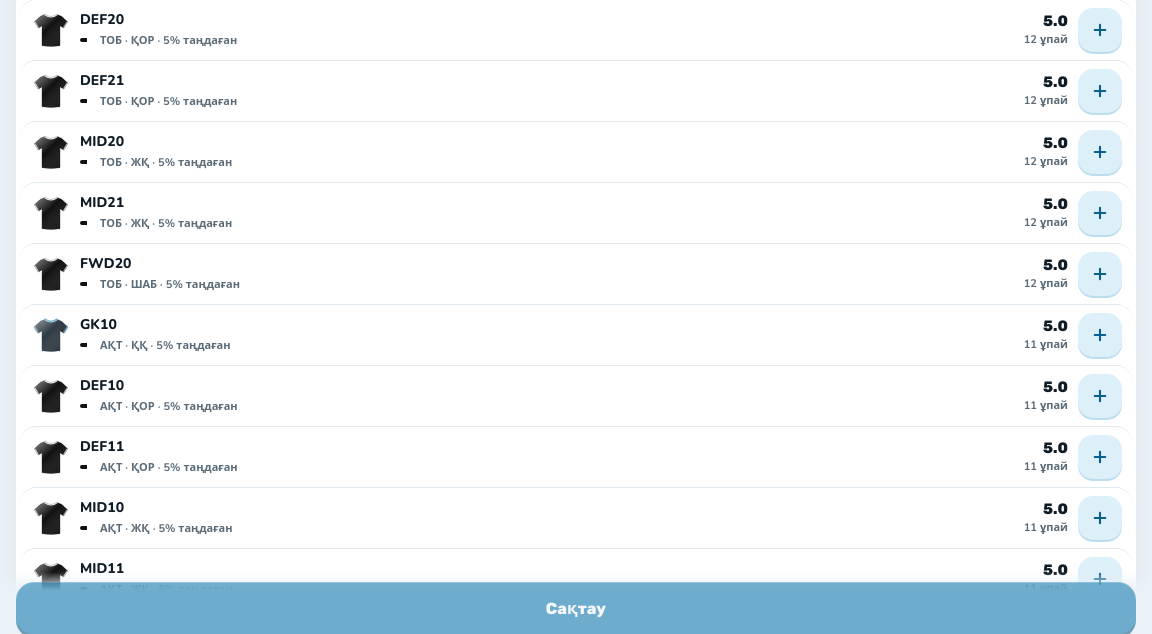
Scenario: Builder › нажатие на выбранного игрока на поле убирает его
The image size is (1152, 634).
(page scrolled)
Click the button named "Қосу: FWD20": click(1100, 274) [1078, 252, 1122, 296]
(page scrolled)
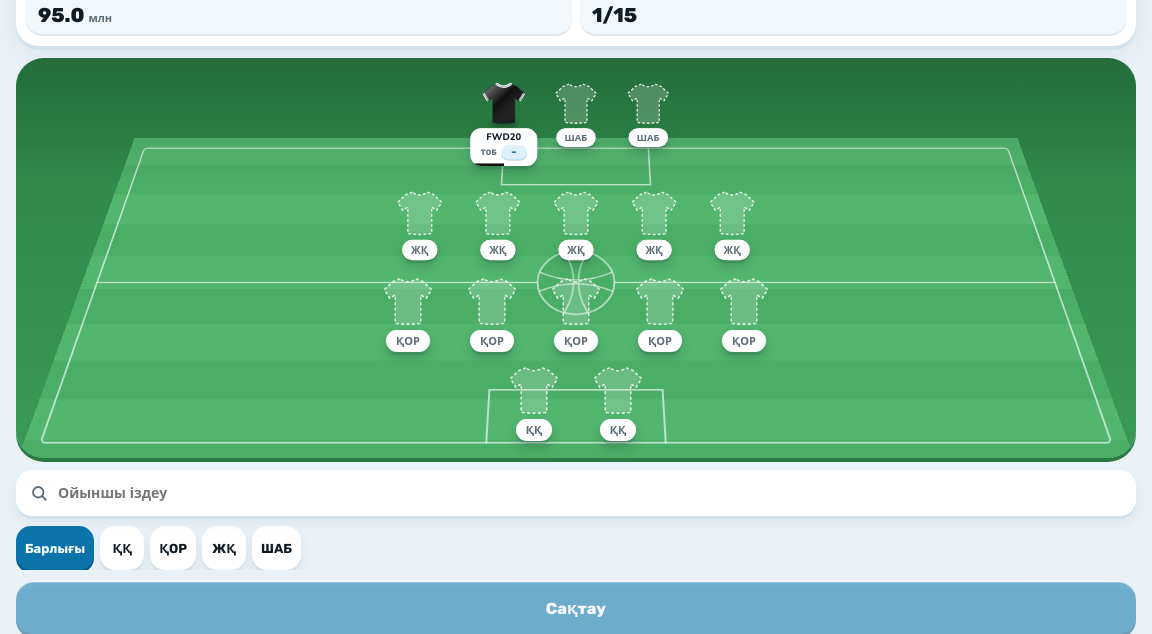
Click the button with aria-label "FWD20,": click(504, 124) [468, 80, 539, 167]
(page scrolled)
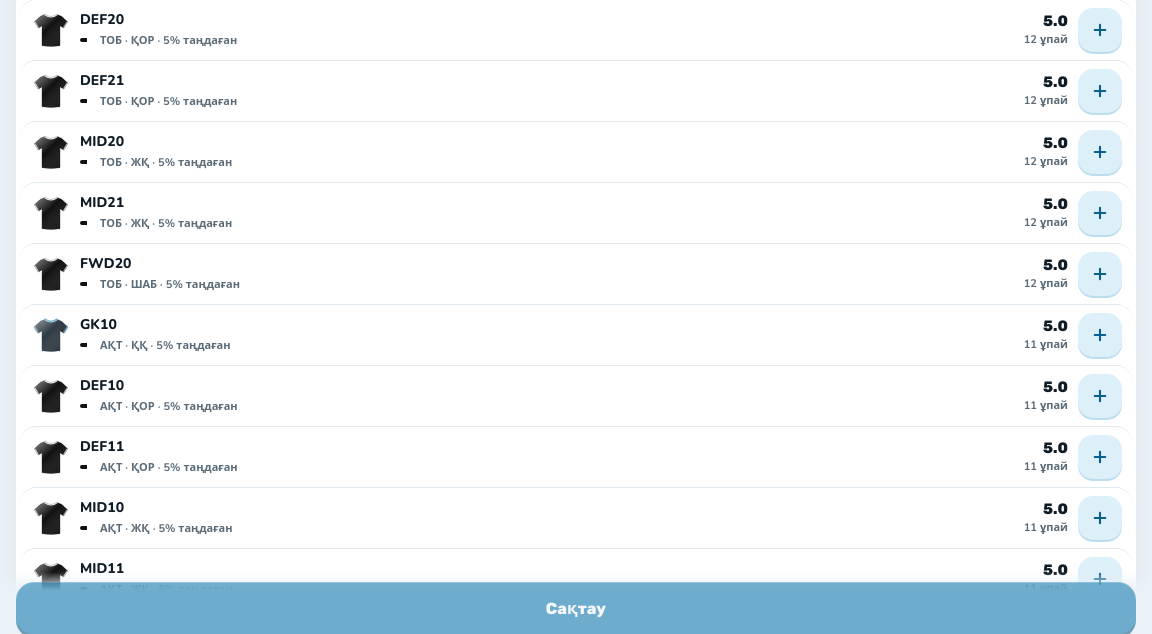
Expected: the button named "Қосу: FWD20" is shown, [1078, 252, 1122, 296]
